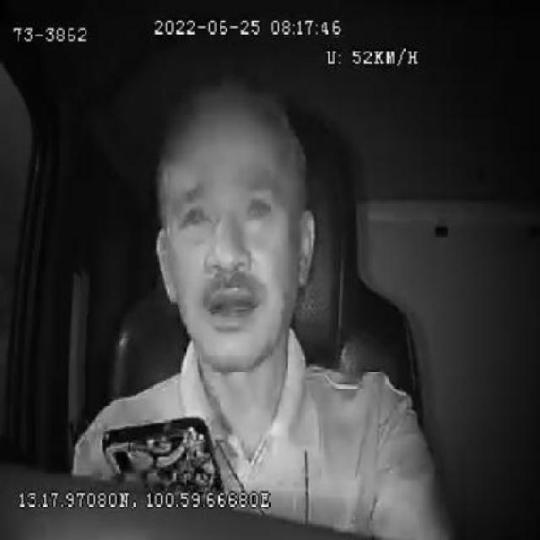phone: (102, 417, 224, 489)
